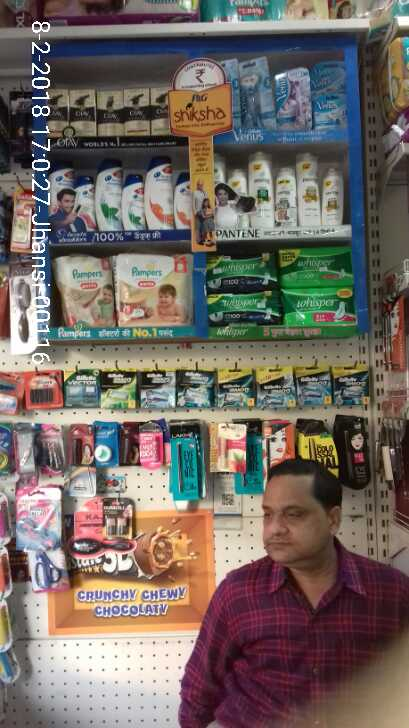gillete: (174, 369, 218, 408), (26, 370, 65, 412), (295, 364, 333, 405), (258, 364, 295, 406), (102, 370, 141, 408), (333, 365, 370, 405), (218, 369, 258, 406), (65, 370, 102, 408), (141, 370, 174, 408), (1, 373, 23, 420)
venus: (313, 60, 347, 128), (276, 69, 313, 128), (242, 55, 272, 126)
